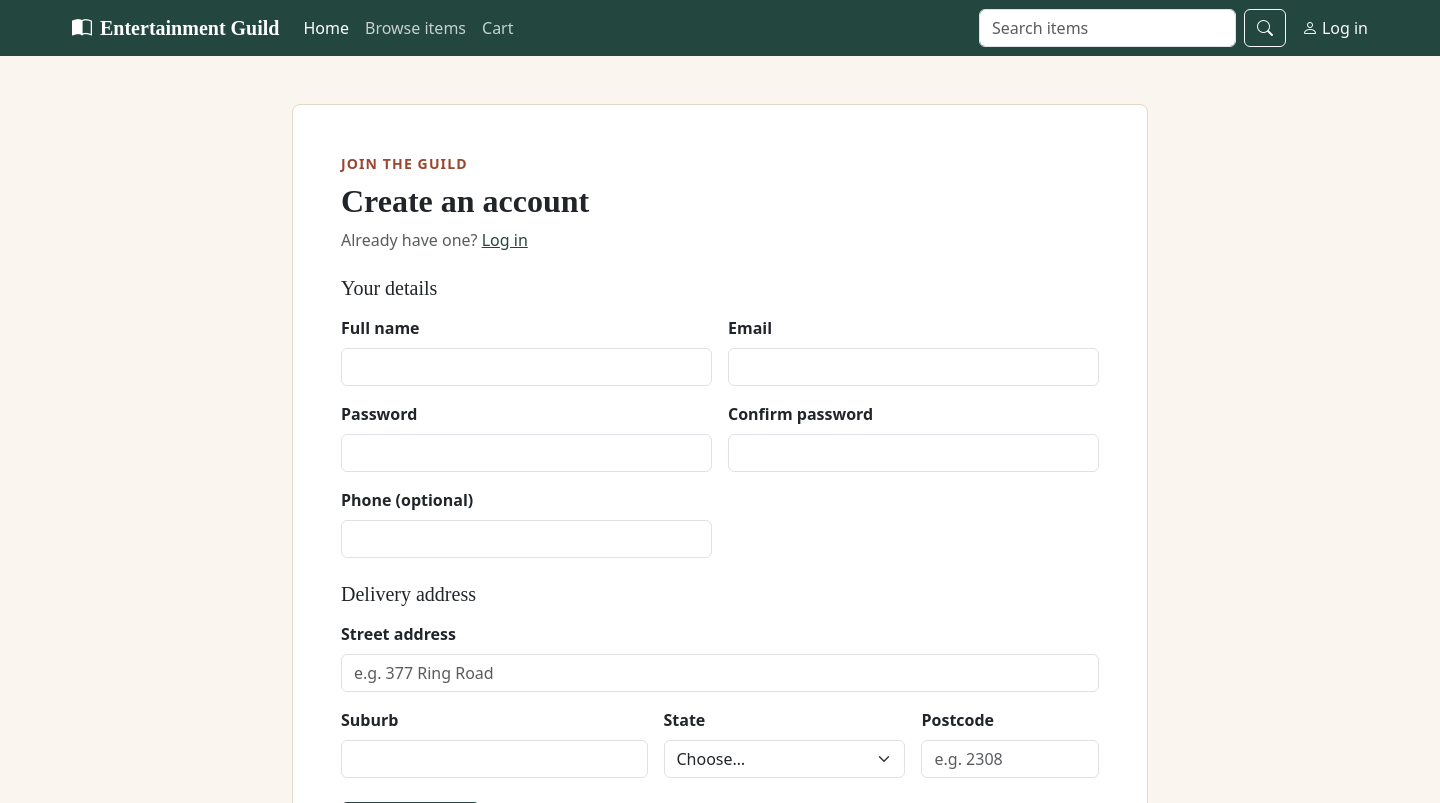
register form checks postcode, matching passwords and state
In the password field labelled "Password": (526, 453) left=341, top=434, right=712, bottom=472, type "longenough"
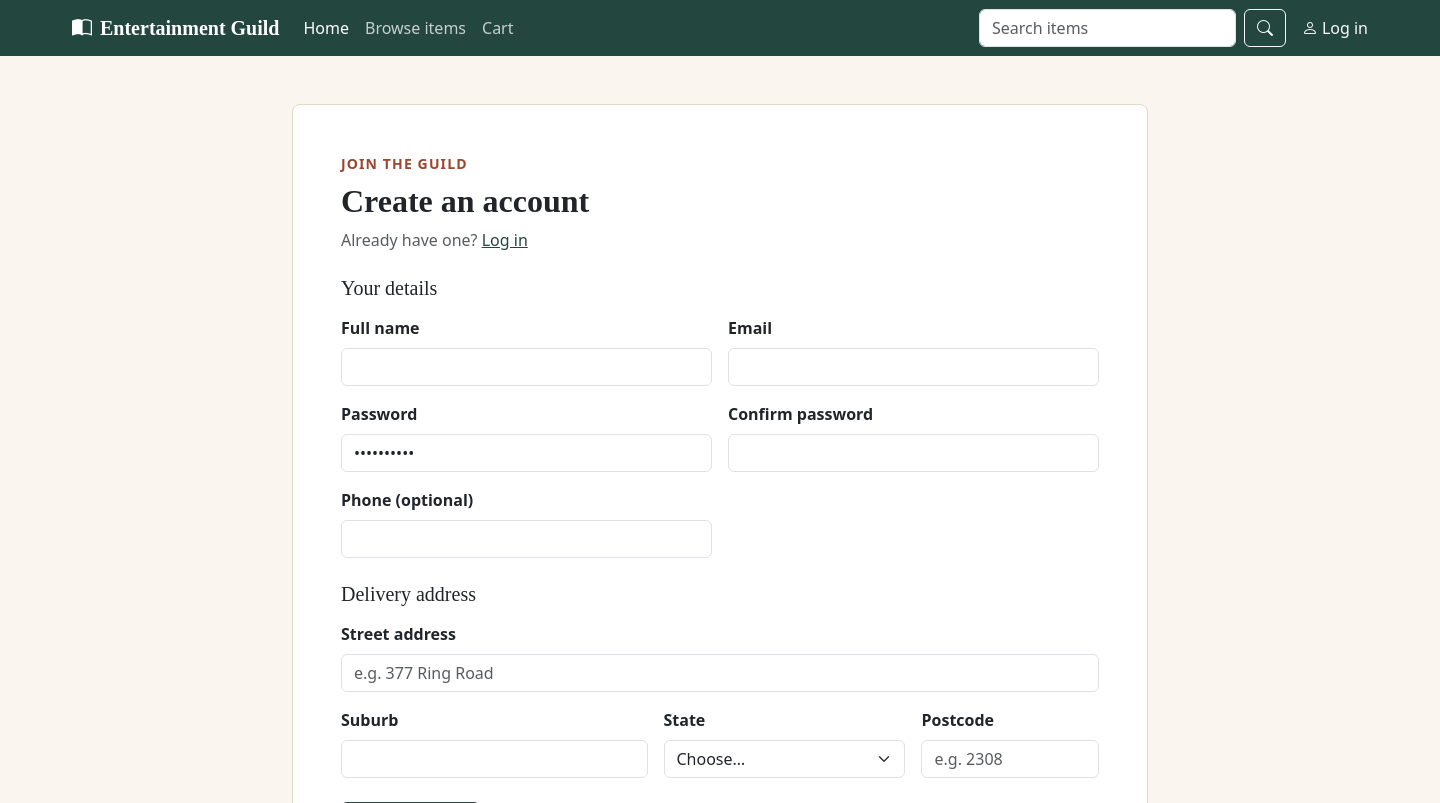
In the password field labelled "Confirm password": (914, 453) left=728, top=434, right=1099, bottom=472, type "different"
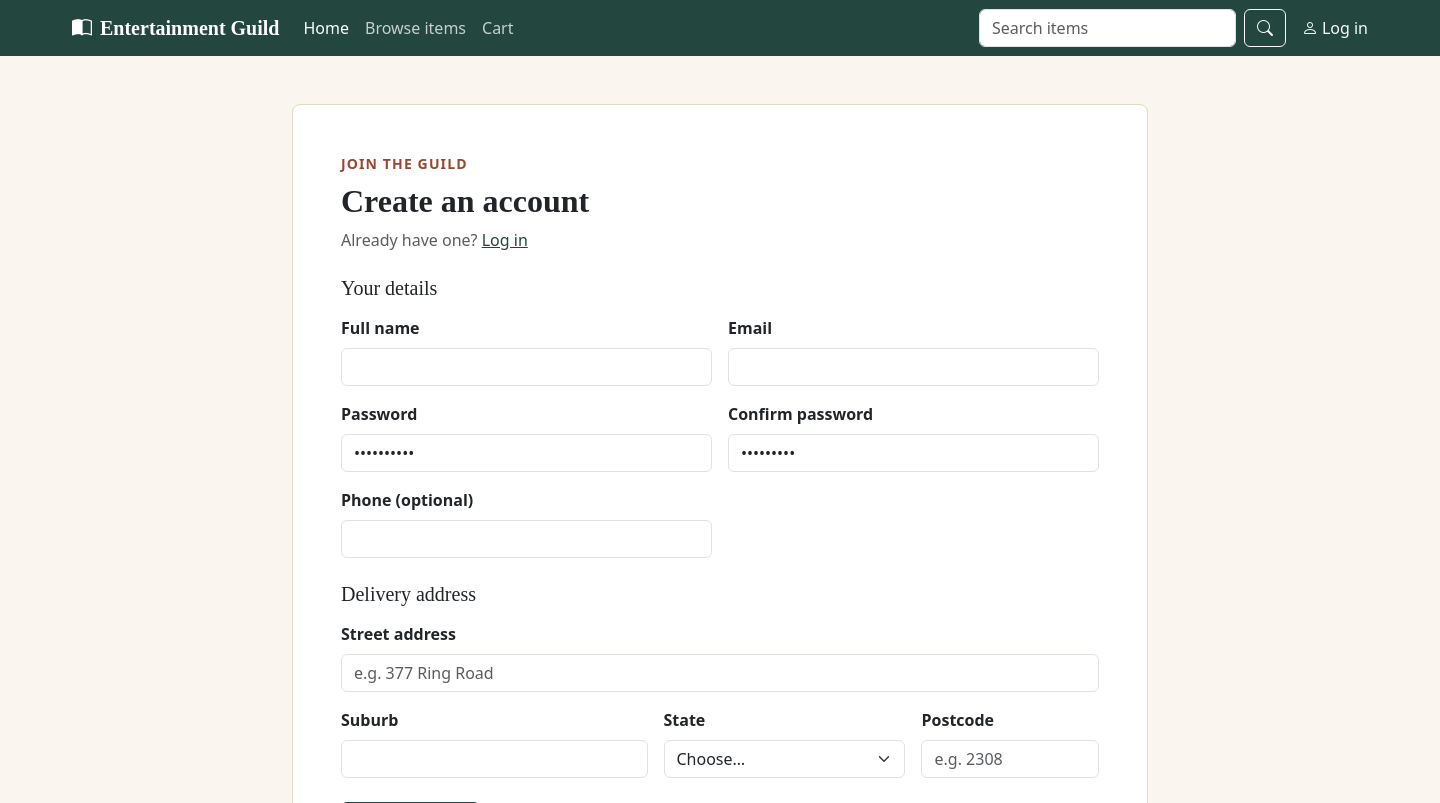
In the field labelled "Postcode": (1010, 759) left=922, top=740, right=1099, bottom=778, type "23"
(page scrolled)
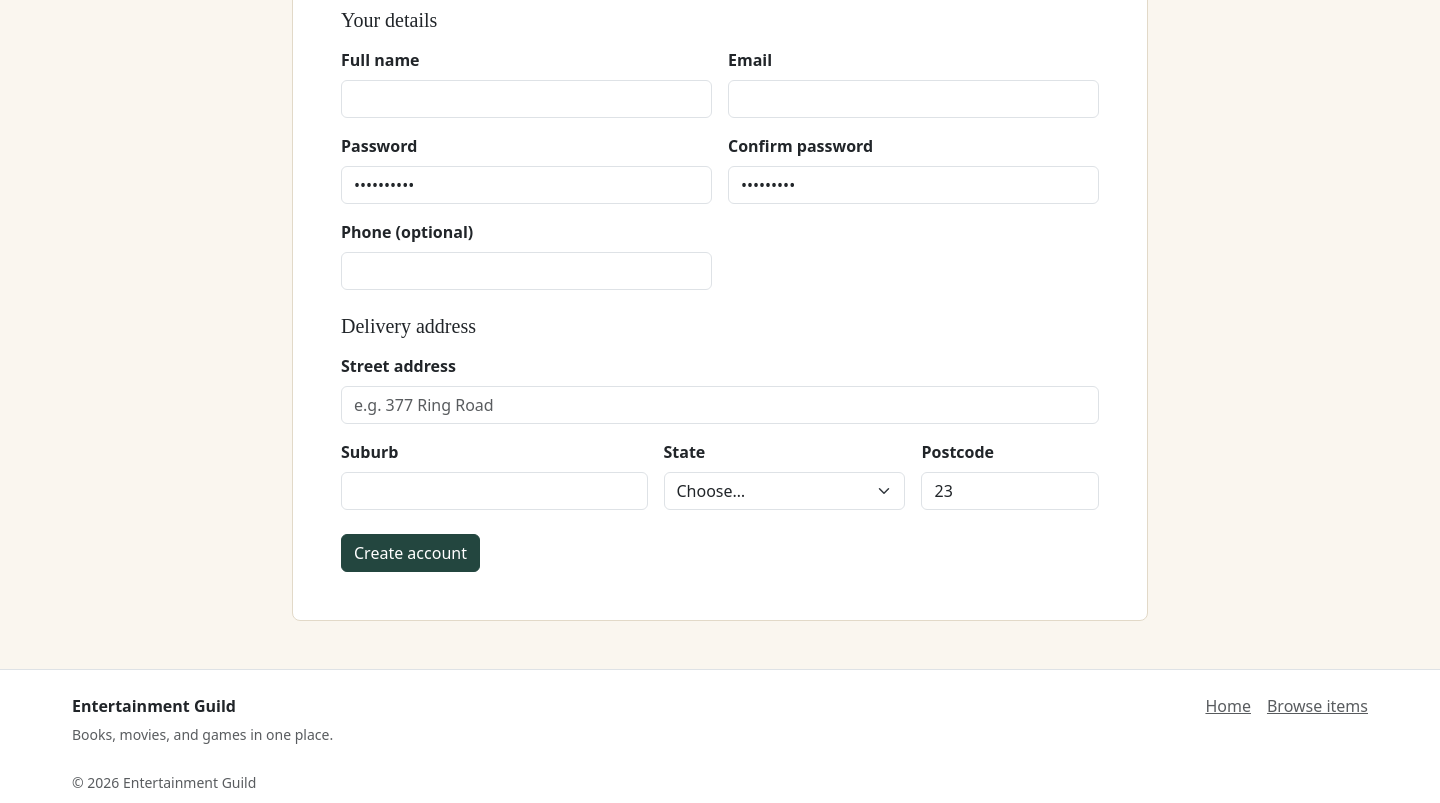
Click the button "Create account": click(410, 553) left=341, top=534, right=480, bottom=572
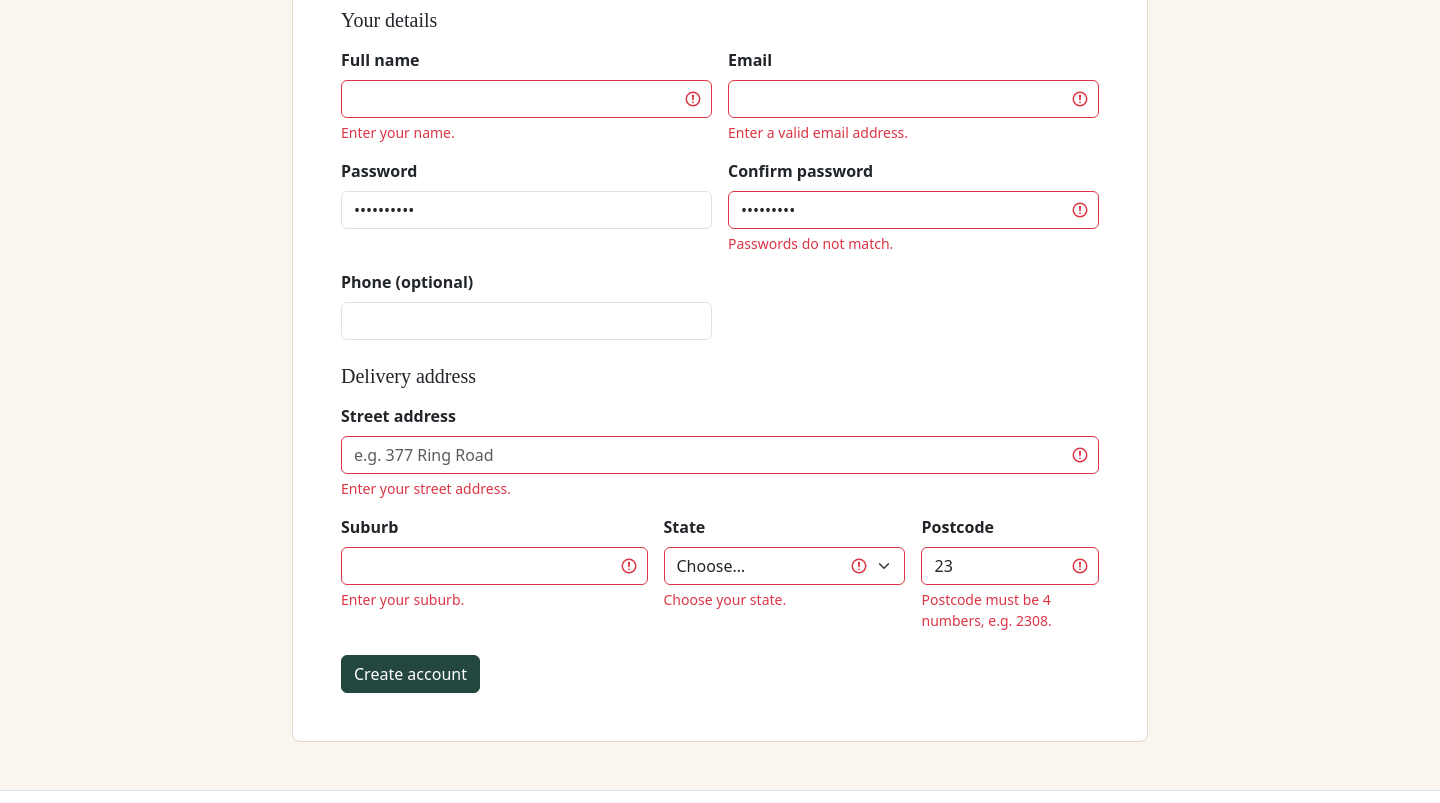
Expected: the text "Passwords do not match." is shown, left=728, top=234, right=893, bottom=253
Expected: the text "Postcode must be 4 numbers, e.g. 2308." is shown, left=922, top=590, right=1052, bottom=630
Expected: the text "Choose your state." is shown, left=664, top=590, right=786, bottom=609
